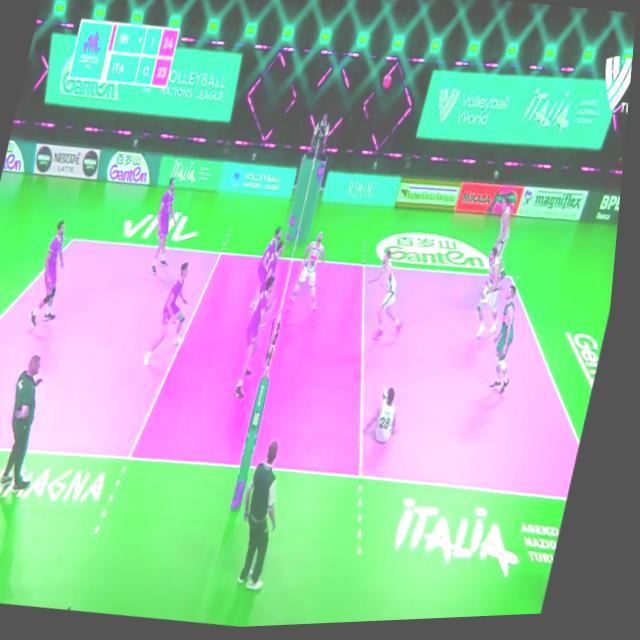player: (147, 256, 210, 373), (240, 278, 287, 406), (33, 215, 85, 330), (363, 250, 424, 348), (488, 289, 539, 399), (291, 229, 342, 325), (147, 174, 192, 281), (474, 248, 520, 348), (255, 222, 294, 314), (370, 386, 416, 452), (260, 240, 292, 322), (491, 199, 524, 274)
